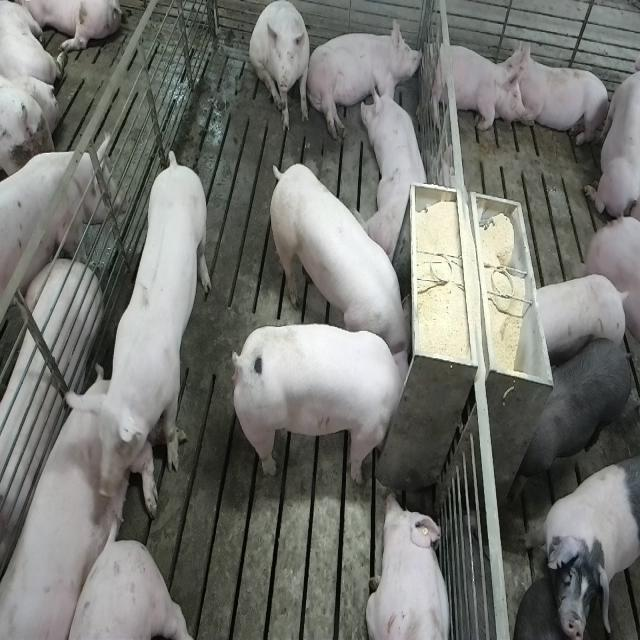Feeding: (226, 321, 412, 484), (265, 160, 412, 358)
Lateral_lying: (306, 15, 424, 142)
Sitting: (250, 2, 312, 134)
Standing: (63, 154, 210, 483), (0, 135, 125, 346), (508, 338, 638, 504), (522, 448, 638, 606), (532, 274, 630, 360)
Sternal_lying: (0, 388, 145, 639), (365, 490, 453, 640), (366, 70, 433, 260), (424, 36, 529, 138), (512, 44, 612, 150), (586, 39, 638, 226)
